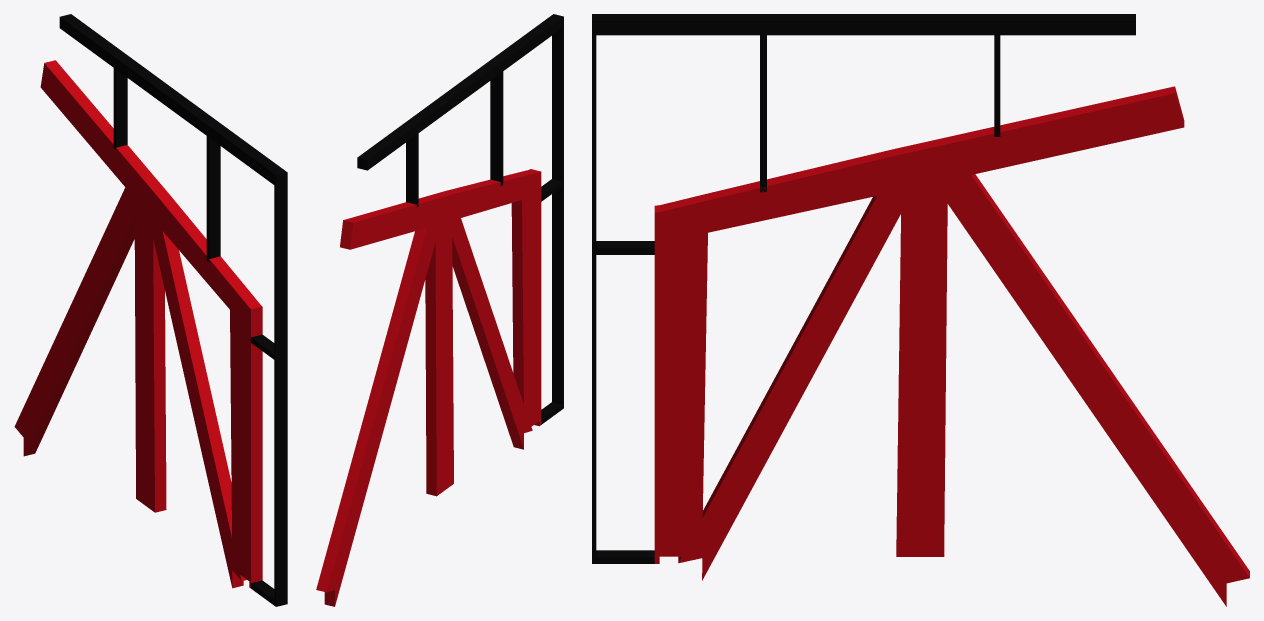
The model's file is weirddoor.fbx.
3 renders of one model, left to right at view 1: azimuth 30°, elevation 25°; view 2: azimuth 150°, elevation 25°; view 3: azimuth 270°, elevation 25°, orthographic. The views are drawn at different scales.
Parts seen in each view (by area): view 1: Cube; view 2: Cube; view 3: Cube.
Boxes of the visible parts, x1,y1,x2,y2 form: Cube: (14,14,287,606); Cube: (316,14,563,606); Cube: (592,14,1249,606).
Bounding box in the file's own units: 75.34 × 2940 × 2991.
